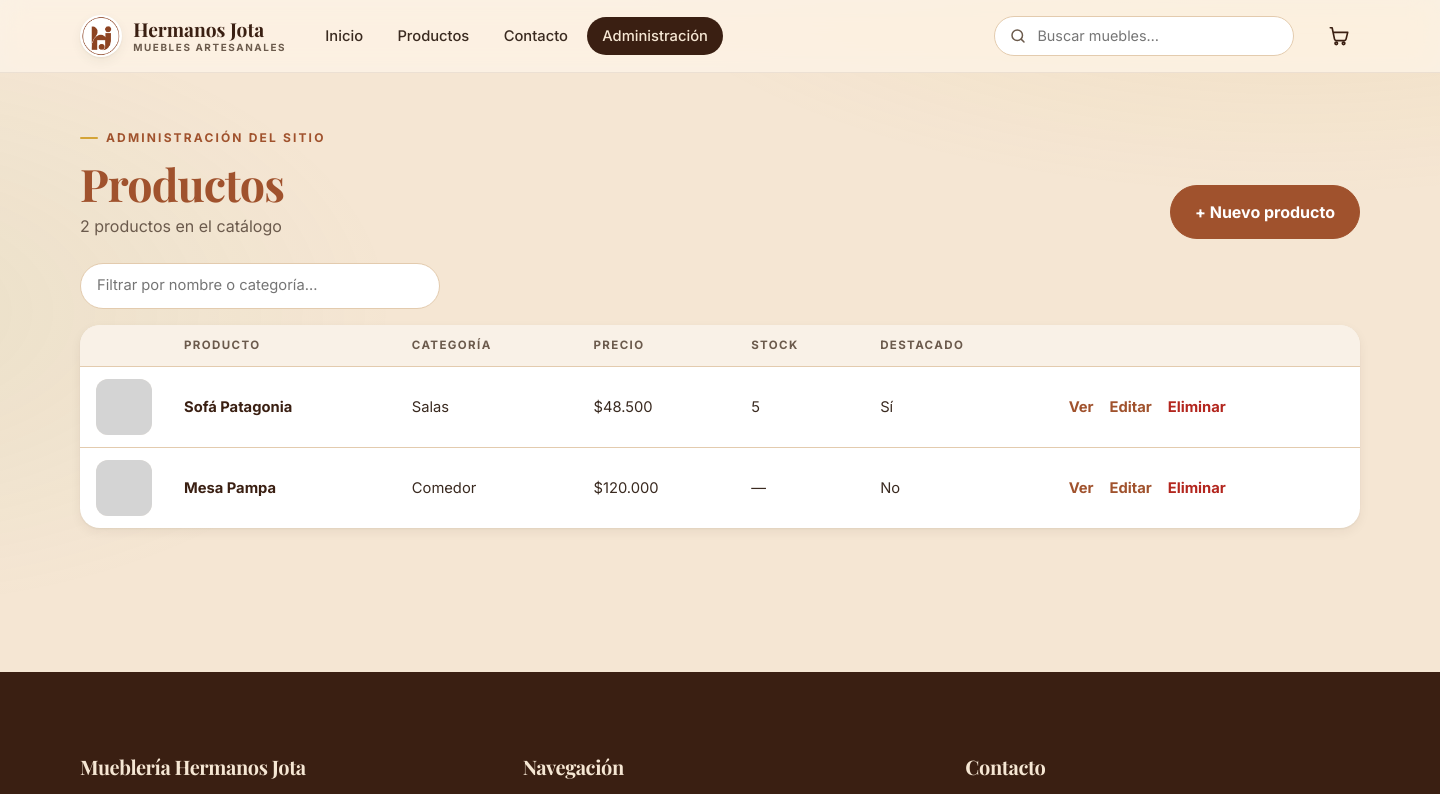
administración permite filtrar por nombre o categoría
In the search field named "Filtrar productos": (260, 286) 80,263 -> 440,309, type "comedor"
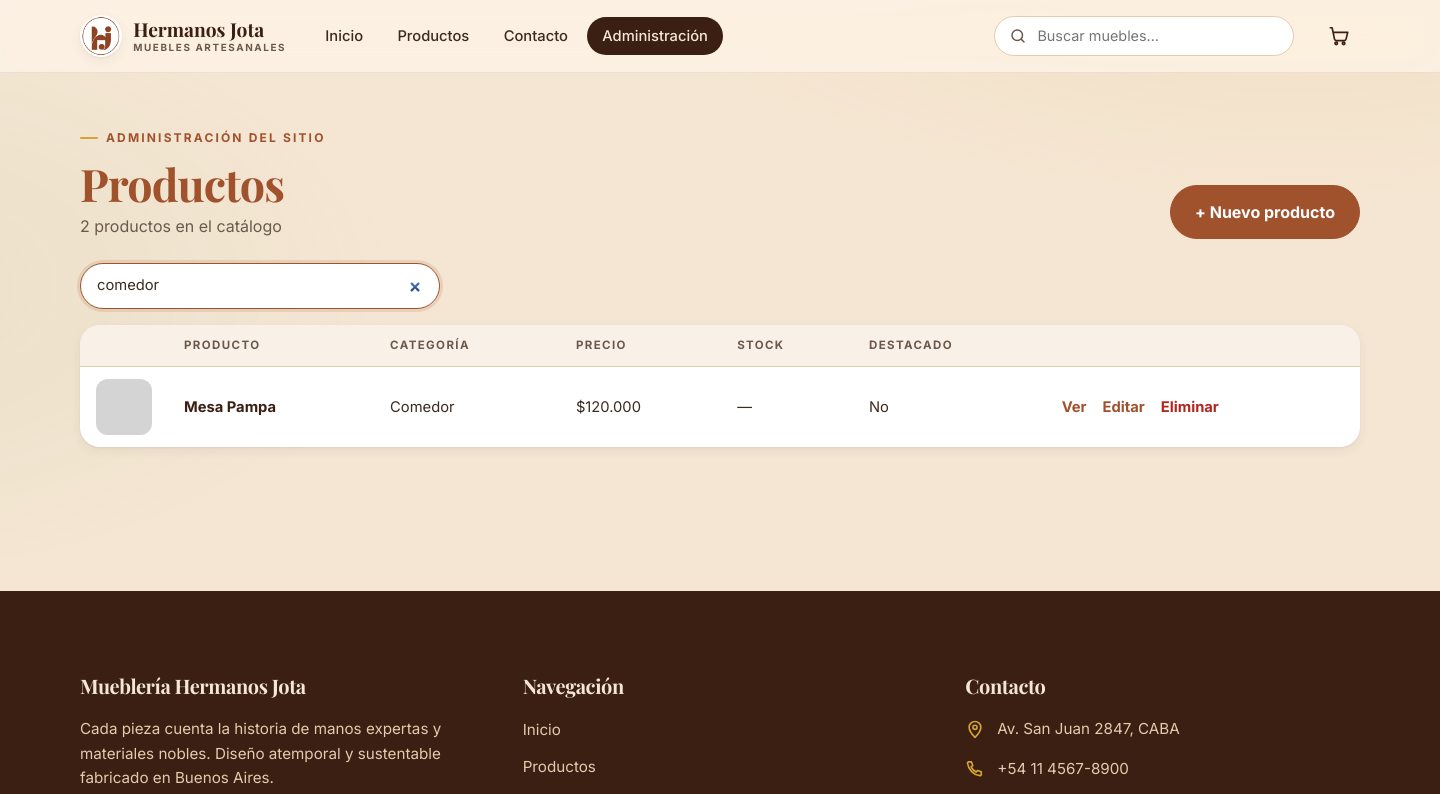
Expected: the column heading "Mesa Pampa" is shown, 168,367 -> 374,447
Expected: the column heading "Sofá Patagonia" is gone
